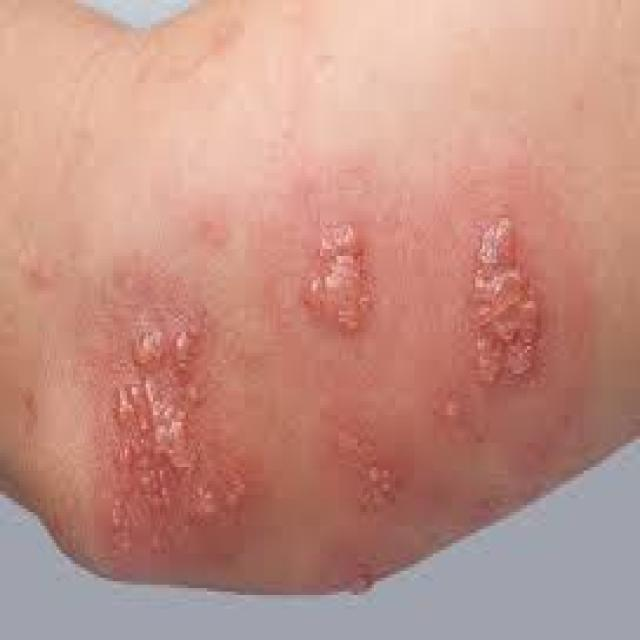Shingles: (107, 306, 246, 542), (457, 208, 548, 382), (299, 216, 375, 336)
